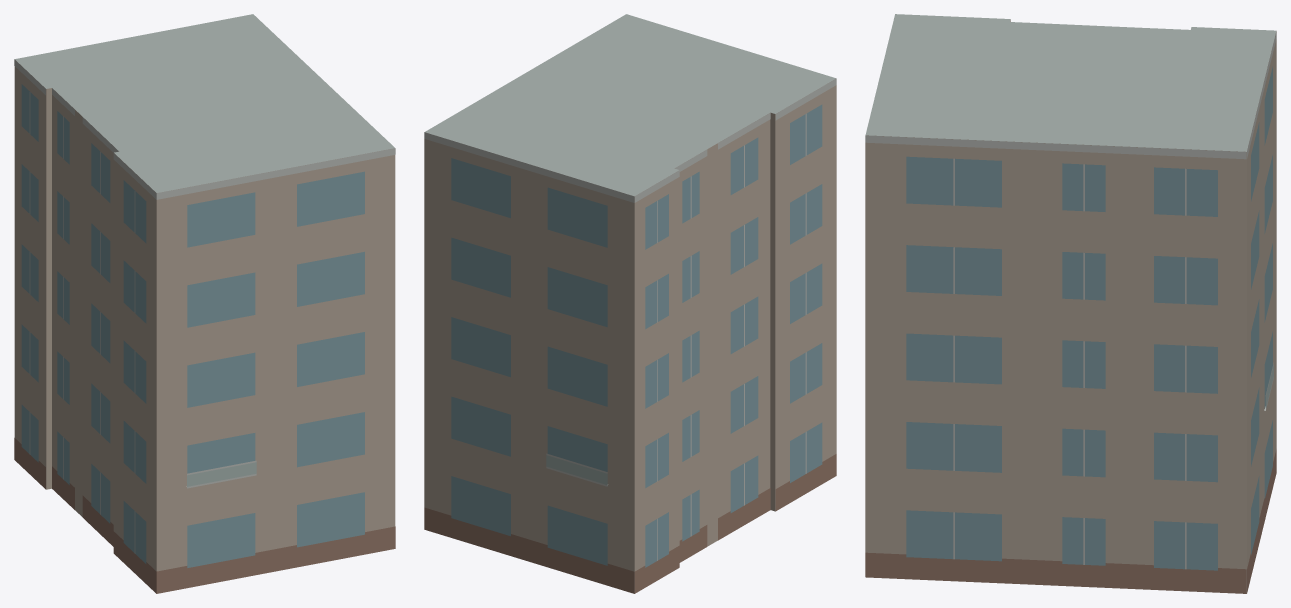
File: survey-upis-32567431.glb
3 renders of one model, left to right at view 1: azimuth 30°, elevation 25°; view 2: azimuth 150°, elevation 25°; view 3: azimuth 270°, elevation 25°, orthographic. The views are drawn at different scales.
Visible parts, largest first — view 1: survey-upis-32567431.tmp; view 2: survey-upis-32567431.tmp; view 3: survey-upis-32567431.tmp.
Part boxes in pixels (box(x1,y1,x2,y2)): survey-upis-32567431.tmp: box(14, 14, 395, 593); survey-upis-32567431.tmp: box(424, 14, 836, 593); survey-upis-32567431.tmp: box(865, 14, 1276, 593).
Bounding box in the file's own units: 9.71 × 14.5 × 12.23.
